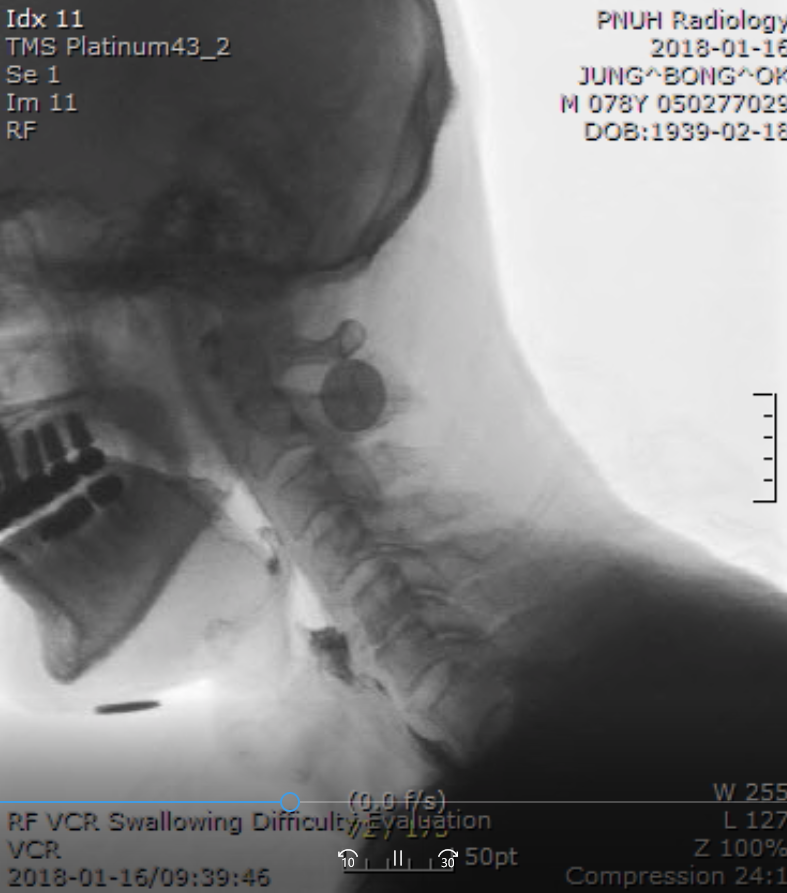dros: (273, 593, 341, 644)
food: (279, 607, 363, 688)
uros: (228, 523, 283, 581)
